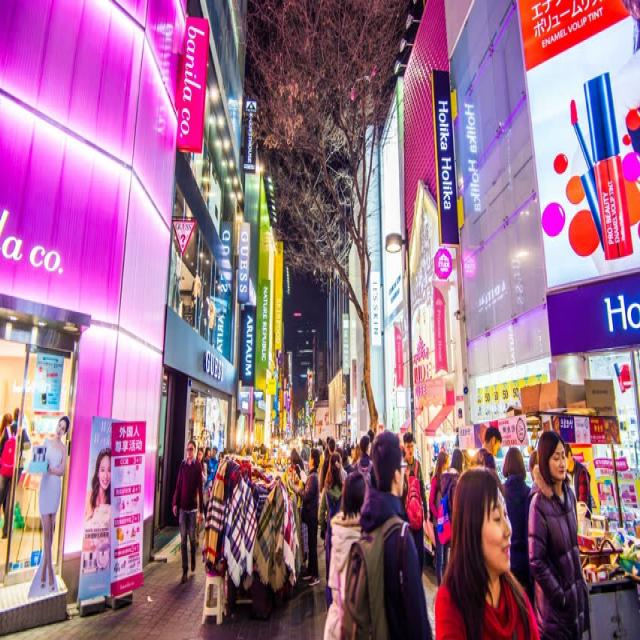body: (431, 458, 548, 638), (339, 428, 434, 640), (525, 426, 592, 638), (321, 470, 366, 640), (37, 412, 69, 592), (171, 439, 205, 585), (170, 246, 218, 346), (318, 450, 346, 614), (308, 428, 378, 493), (400, 429, 429, 582), (502, 444, 533, 585), (0, 407, 31, 541), (282, 428, 308, 575), (295, 447, 321, 588), (428, 449, 452, 592), (198, 392, 228, 504), (436, 447, 465, 548), (562, 442, 593, 526), (84, 447, 111, 524), (198, 148, 223, 227), (469, 425, 504, 475), (226, 440, 268, 467), (461, 447, 496, 472), (526, 441, 539, 488), (195, 445, 208, 483), (0, 411, 13, 433)
